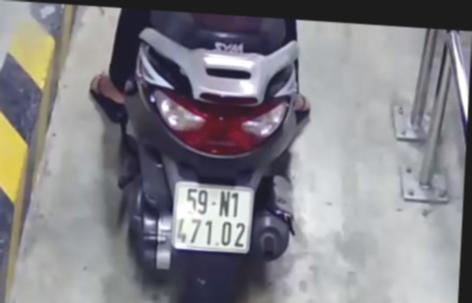License_Plate: (166, 175, 265, 262)
